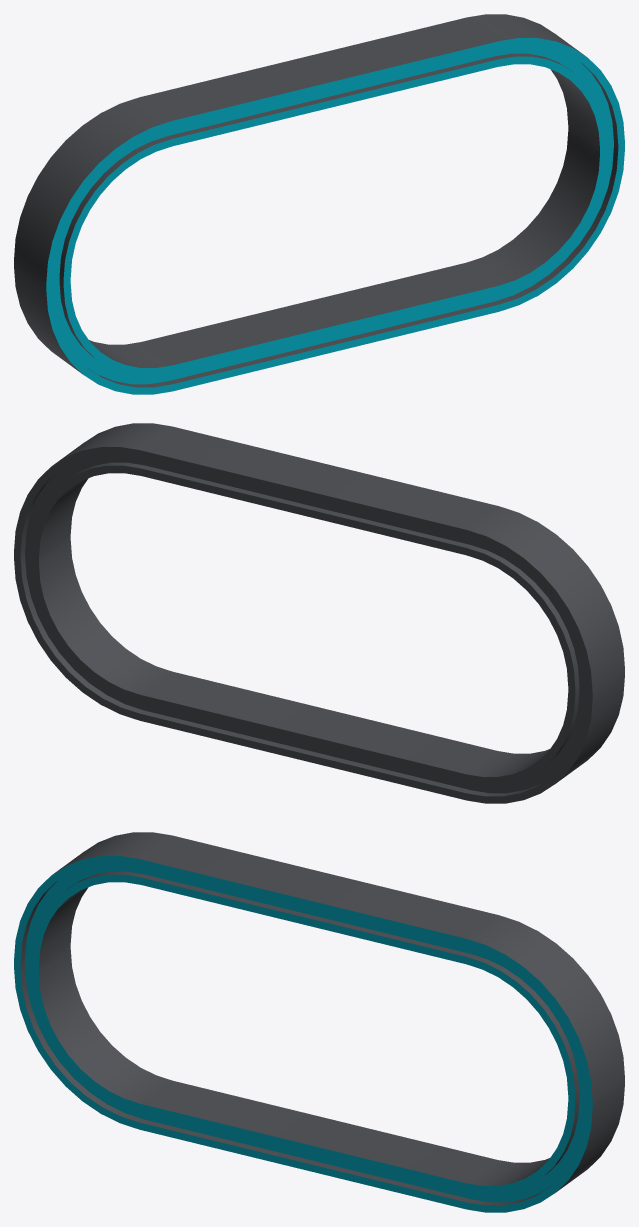
Rendered from ring_blue_3.glb.
The picture shows the model from 3 angles, top to bottom: view 1: azimuth 30°, elevation 25°; view 2: azimuth 150°, elevation 25°; view 3: azimuth 330°, elevation 25°; orthographic projection.
Visible parts, largest first — view 1: Cube; view 2: Cube; view 3: Cube.
Boxes of the visible parts, x1,y1,x2,y2 form: Cube: (14,14,624,394); Cube: (14,423,624,803); Cube: (14,832,624,1212).
Bounding box in the file's own units: 0.434 × 0.194 × 0.0421.
